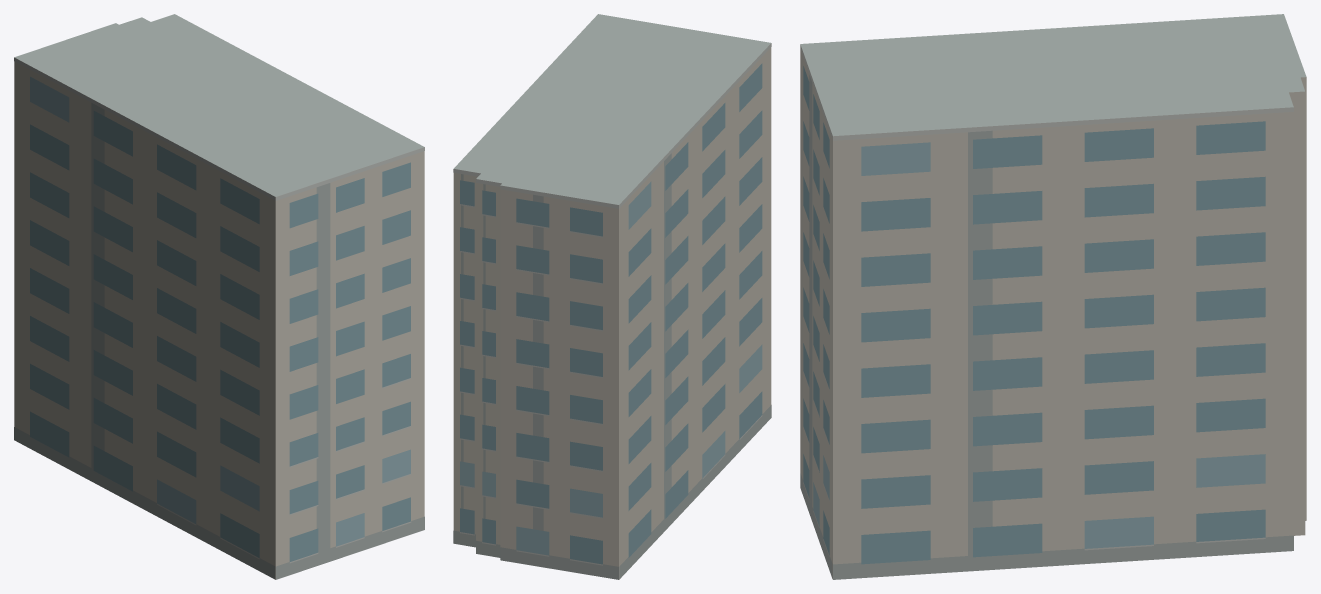
The model's file is survey-upis-33001729.glb.
3 renders of one model, left to right at view 1: azimuth 30°, elevation 25°; view 2: azimuth 150°, elevation 25°; view 3: azimuth 270°, elevation 25°, orthographic. The views are drawn at different scales.
Visible parts, largest first — view 1: survey-upis-33001729.tmp; view 2: survey-upis-33001729.tmp; view 3: survey-upis-33001729.tmp.
Boxes of the visible parts, bbox=[...] form: survey-upis-33001729.tmp: bbox=[14, 14, 424, 579]; survey-upis-33001729.tmp: bbox=[453, 14, 771, 579]; survey-upis-33001729.tmp: bbox=[800, 14, 1306, 579].
Bounding box in the file's own units: 13.95 × 23.6 × 24.41.
